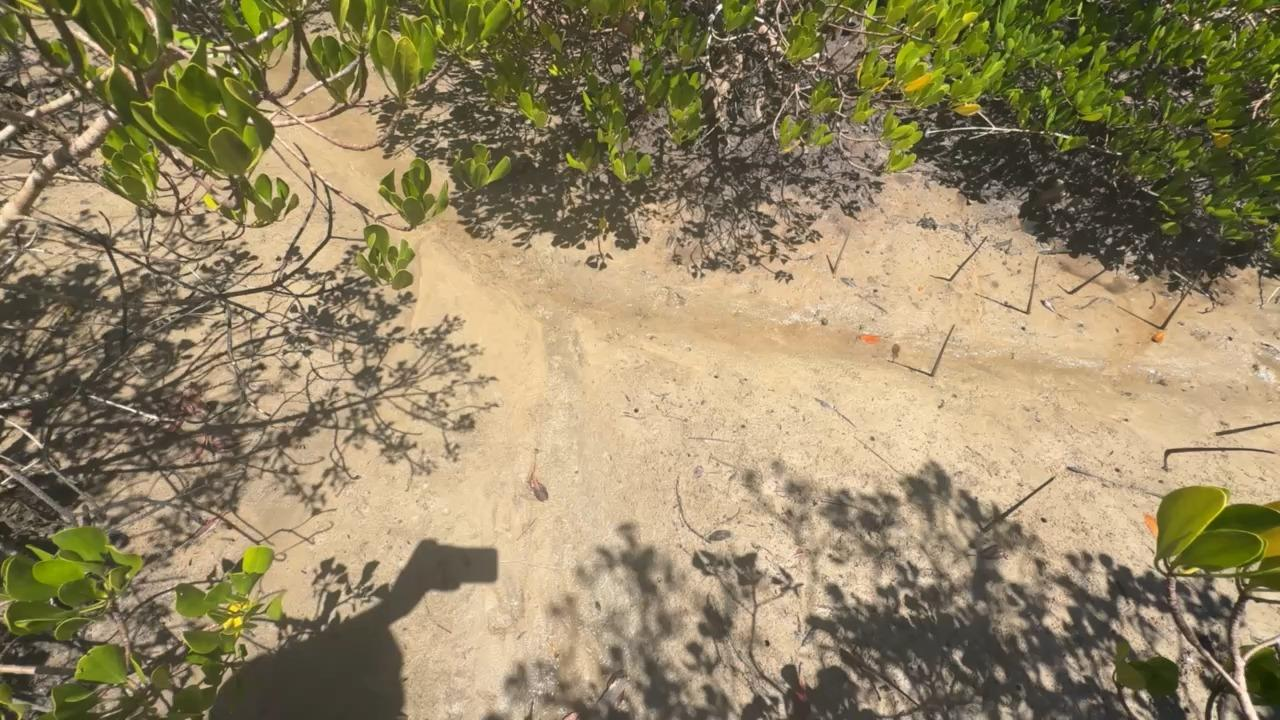Tree: (981, 476, 1055, 534), (1068, 243, 1140, 295), (1160, 269, 1205, 329), (948, 235, 988, 282), (929, 324, 956, 377), (1165, 447, 1276, 458), (1215, 421, 1280, 435), (1026, 256, 1040, 315), (833, 232, 850, 274), (1259, 286, 1280, 310)
